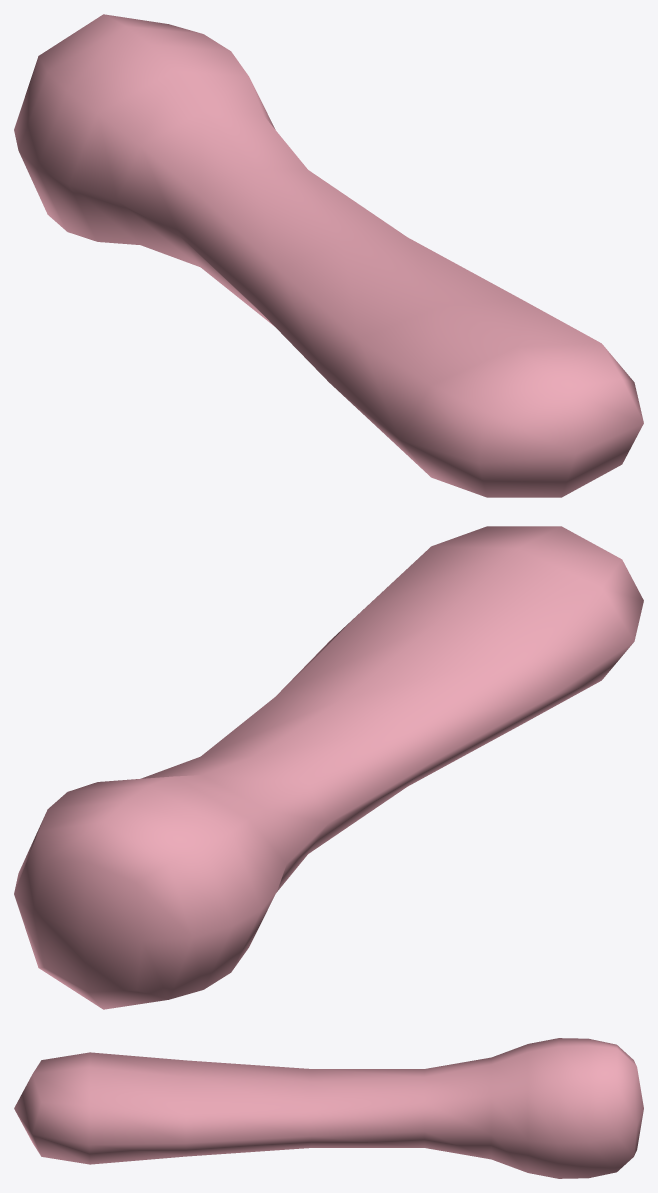
The model's file is tongue.fbx.
3 renders of one model, top to bottom at view 1: azimuth 30°, elevation 25°; view 2: azimuth 150°, elevation 25°; view 3: azimuth 270°, elevation 25°, orthographic. The views are drawn at different scales.
Parts seen in each view (by area): view 1: tongue; view 2: tongue; view 3: tongue.
Boxes of the visible parts, x1,y1,x2,y2 form: tongue: (14,14,643,497); tongue: (14,526,643,1009); tongue: (14,1038,643,1178).
Size of the model in its own units: 55.43 by 44.25 by 202.
